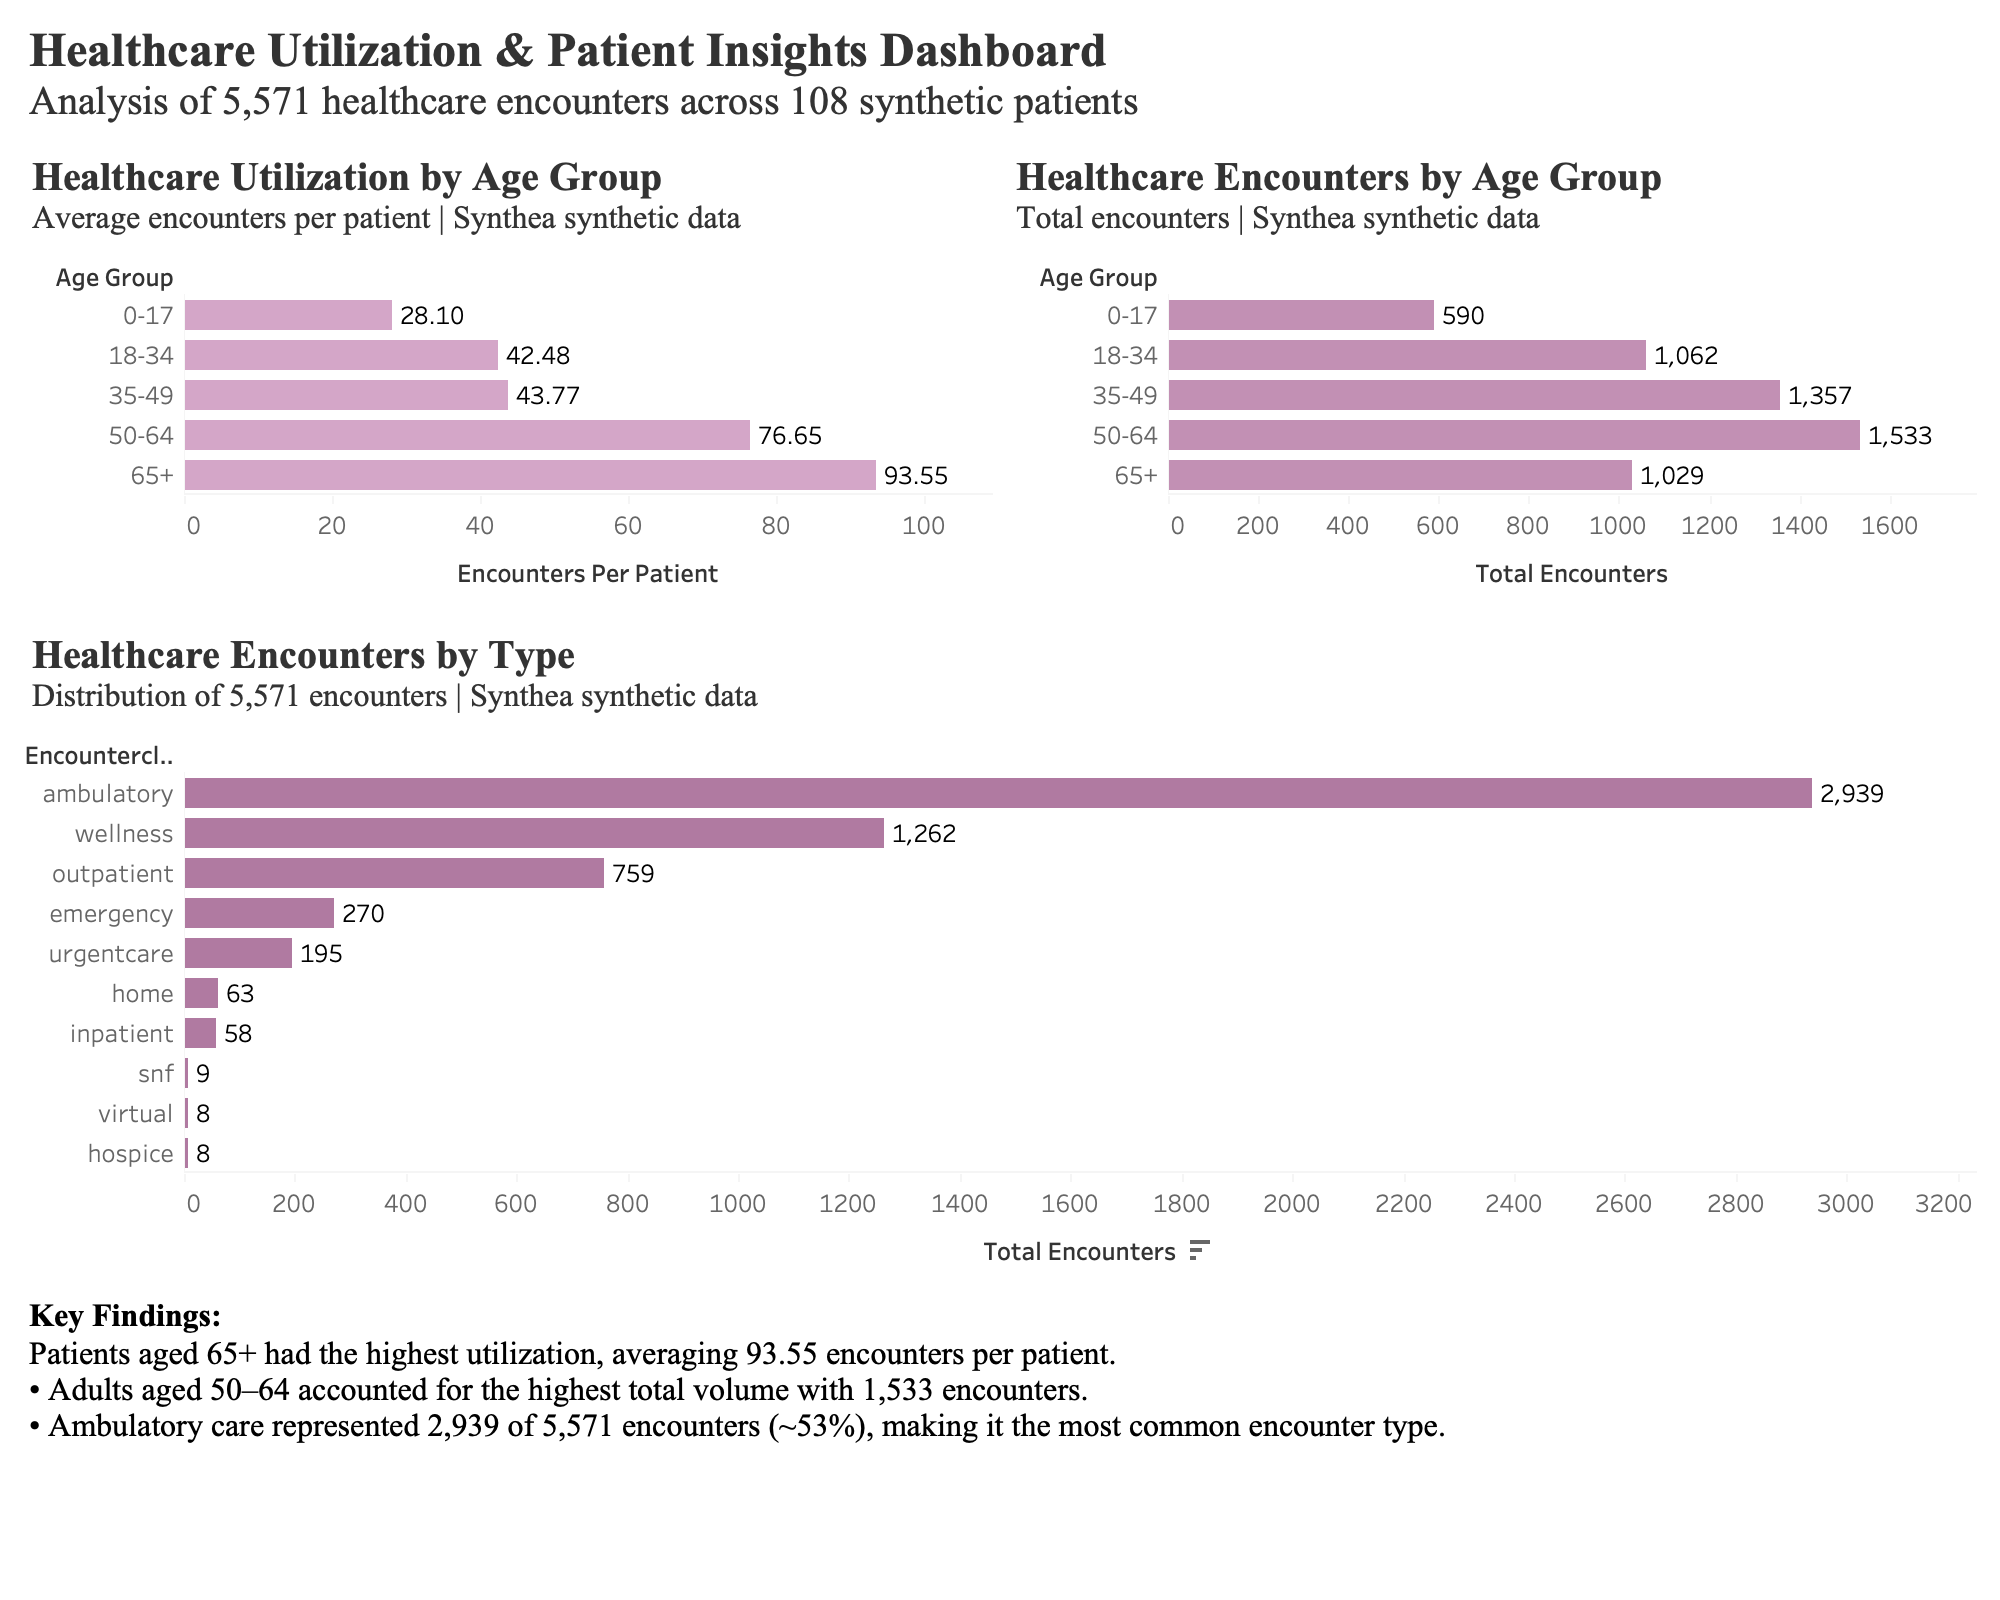

The page's visual inventory and layout, read from the dashboard file:
{"tool":"tableau","page":{"name":"Dashboard 1","canvas":[1000,800],"ordinal":0},"visuals":[{"type":"title","box":[8,8,984,59]},{"type":"worksheet","title":"Utilization by Age","mark":"Automatic","rows":["age_group"],"cols":["encounters_per_patient"],"box":[8,67,492,239]},{"type":"worksheet","title":"Total Encounters by Age","mark":"Automatic","rows":["age_group"],"cols":["total_encounters"],"box":[500,67,492,239]},{"type":"worksheet","title":"Encounter Types","mark":"Automatic","rows":["encounterclass"],"cols":["total_encounters"],"box":[8,306,984,339]},{"type":"text","box":[8,645,984,83]}]}

Visuals, with their boxes in screenshot pixels (x1, y1, x2, y2), scaled from the page's 1000x800 canvas onto the 2000x1600 screenshot:
title: [16,16,1984,134]
"Utilization by Age" worksheet: [16,134,1000,612]
"Total Encounters by Age" worksheet: [1000,134,1984,612]
"Encounter Types" worksheet: [16,612,1984,1290]
text: [16,1290,1984,1456]
